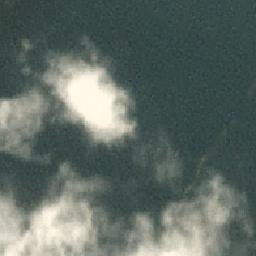cloud: (1, 40, 143, 159), (1, 161, 116, 256), (122, 173, 245, 256)
